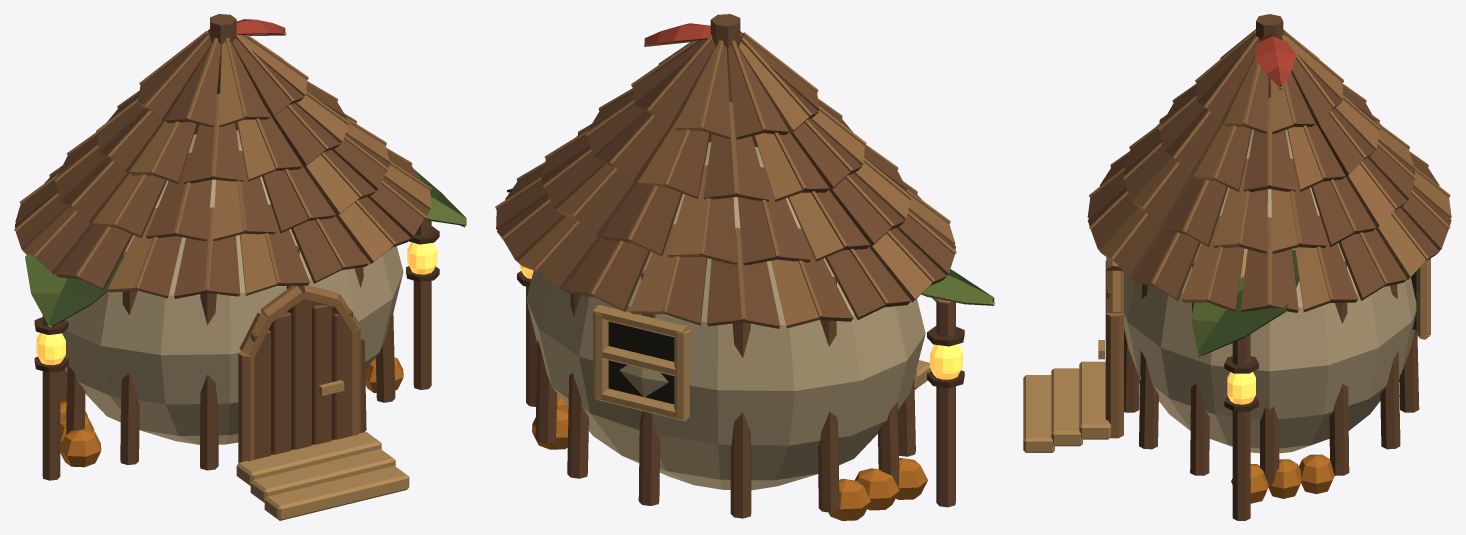
The model's file is bark-cottage.glb.
3 renders of one model, left to right at view 1: azimuth 30°, elevation 25°; view 2: azimuth 150°, elevation 25°; view 3: azimuth 270°, elevation 25°, orthographic. The views are drawn at different scales.
Parts seen in each view (by area): view 1: bark-cottage; view 2: bark-cottage; view 3: bark-cottage.
Boxes of the visible parts, x1=… form: bark-cottage: x1=14, y1=14, x2=466, y2=520; bark-cottage: x1=495, y1=14, x2=994, y2=520; bark-cottage: x1=1023, y1=14, x2=1451, y2=520.
Size of the model in its own units: 5.23 by 4.9 by 4.59.
